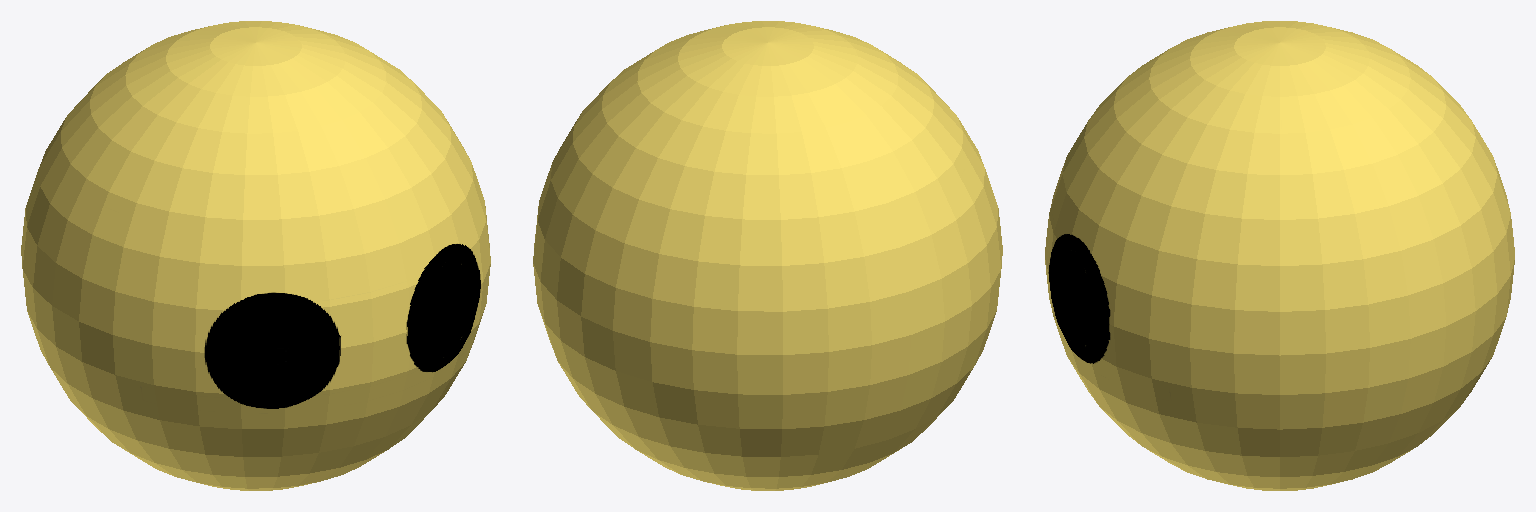
3 renders of one model, left to right at view 1: azimuth 30°, elevation 25°; view 2: azimuth 150°, elevation 25°; view 3: azimuth 270°, elevation 25°, orthographic.
Visible parts, largest first — view 1: 球; view 2: 球; view 3: 球.
Part boxes in pixels (left/top/right/bottom): 球: left=21, top=21, right=490, bottom=490; 球: left=533, top=21, right=1002, bottom=490; 球: left=1045, top=21, right=1514, bottom=490.
Size of the model in its own units: 2 by 2 by 2.
Materials: 1 (1 with a texture image).